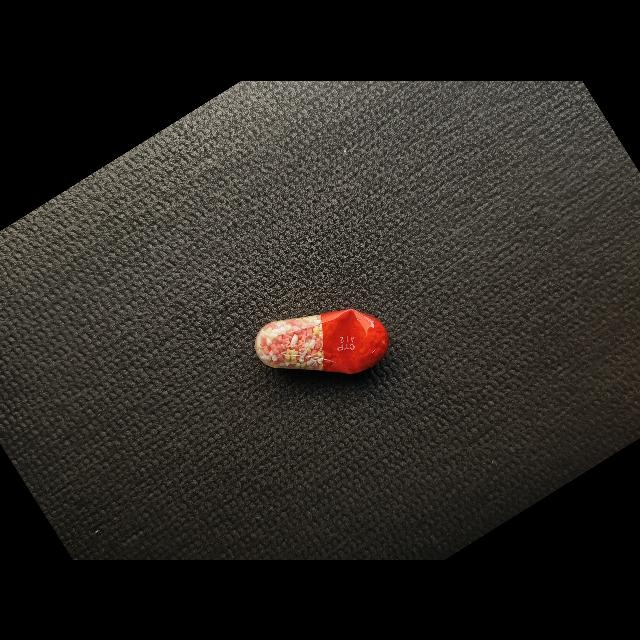Defective Capsule: (255, 308, 389, 374)
